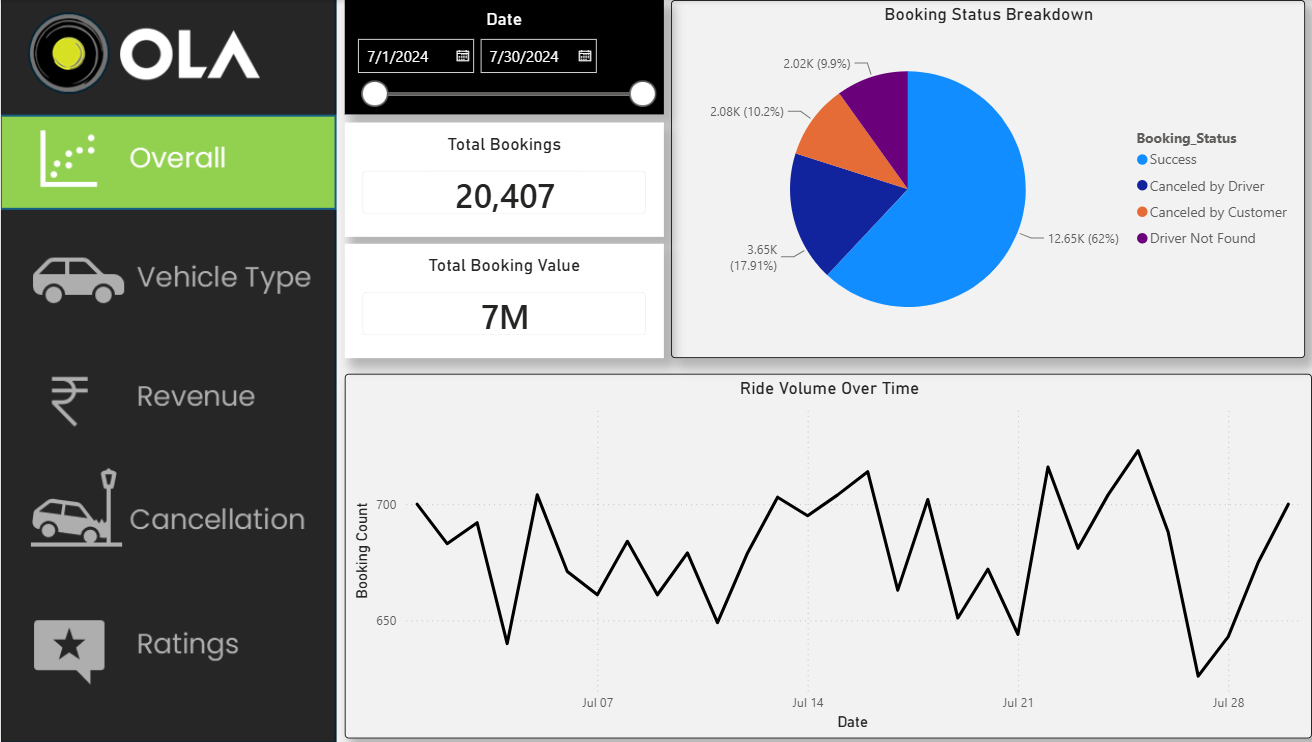

The page's visual inventory and layout, read from the dashboard file:
{"tool":"powerbi","page":{"name":"Overall","canvas":[1280,720],"ordinal":0},"visuals":[{"type":"actionButton","box":[0,220.8,324.5,92.2],"z":0},{"type":"actionButton","box":[0,331.6,324.5,92.2],"z":1000},{"type":"actionButton","box":[0,449.6,324.5,92.2],"z":2000},{"type":"actionButton","box":[0,579,324.5,92.2],"z":3000},{"type":"lineChart","title":"Ride Volume Over Time","fields":{"Y":["CountNonNull(July.Booking_ID)"],"Category":["July.Date"]},"box":[331.6,360.2,934.7,352],"z":4000},{"type":"pieChart","title":"Booking Status Breakdown","fields":{"Category":["July.Booking_Status"],"Y":["CountNonNull(July.Booking_ID)"]},"box":[646.9,0,612.2,345.9],"z":4001},{"type":"slicer","title":"Date","fields":{"Values":["July.Date"]},"box":[331.6,0,308.2,110.2],"z":4002},{"type":"cardVisual","title":"Total Bookings","fields":{"Data":["CountNonNull(July.Booking_ID)"]},"box":[331.6,118.4,308.2,110.2],"z":4003},{"type":"cardVisual","title":"Total Booking Value","fields":{"Data":["Sum(July.Booking_Value)"]},"box":[331.6,235.7,308.2,110.2],"z":4004}]}

Visuals, with their boxes in screenshot pixels (x1, y1, x2, y2), scaled from the page's 1280x720 canvas onto the 1312x742 screenshot:
actionButton: [left=0, top=228, right=333, bottom=323]
actionButton: [left=0, top=342, right=333, bottom=437]
actionButton: [left=0, top=463, right=333, bottom=558]
actionButton: [left=0, top=597, right=333, bottom=692]
"Ride Volume Over Time" lineChart: [left=340, top=371, right=1298, bottom=734]
"Booking Status Breakdown" pieChart: [left=663, top=0, right=1291, bottom=356]
"Date" slicer: [left=340, top=0, right=656, bottom=114]
"Total Bookings" cardVisual: [left=340, top=122, right=656, bottom=236]
"Total Booking Value" cardVisual: [left=340, top=243, right=656, bottom=356]
